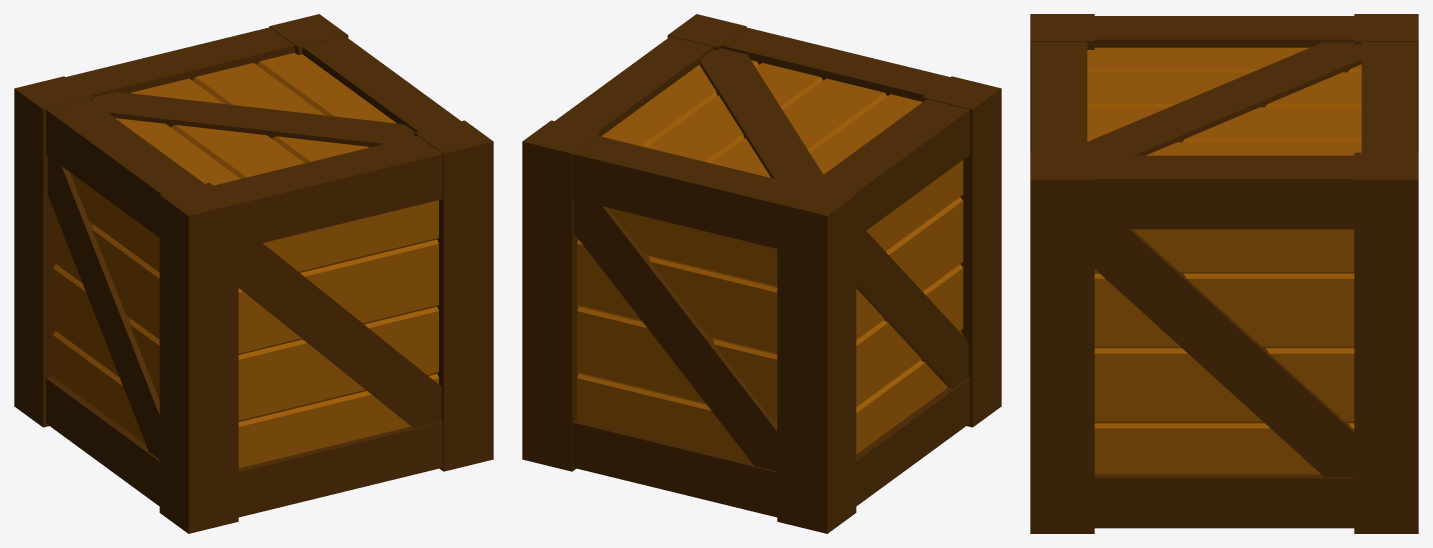
File: crate.fbx
3 views of the same model, side by side, from view 1: azimuth 30°, elevation 25°; view 2: azimuth 150°, elevation 25°; view 3: azimuth 270°, elevation 25° (orthographic). The views are drawn at different scales.
Parts seen in each view (by area): view 1: crate; view 2: crate; view 3: crate.
Boxes of the visible parts, <box> form: crate: <box>14,14,493,533</box>; crate: <box>522,14,1001,533</box>; crate: <box>1030,14,1418,533</box>.
Size of the model in its own units: 238 by 237 by 235.
